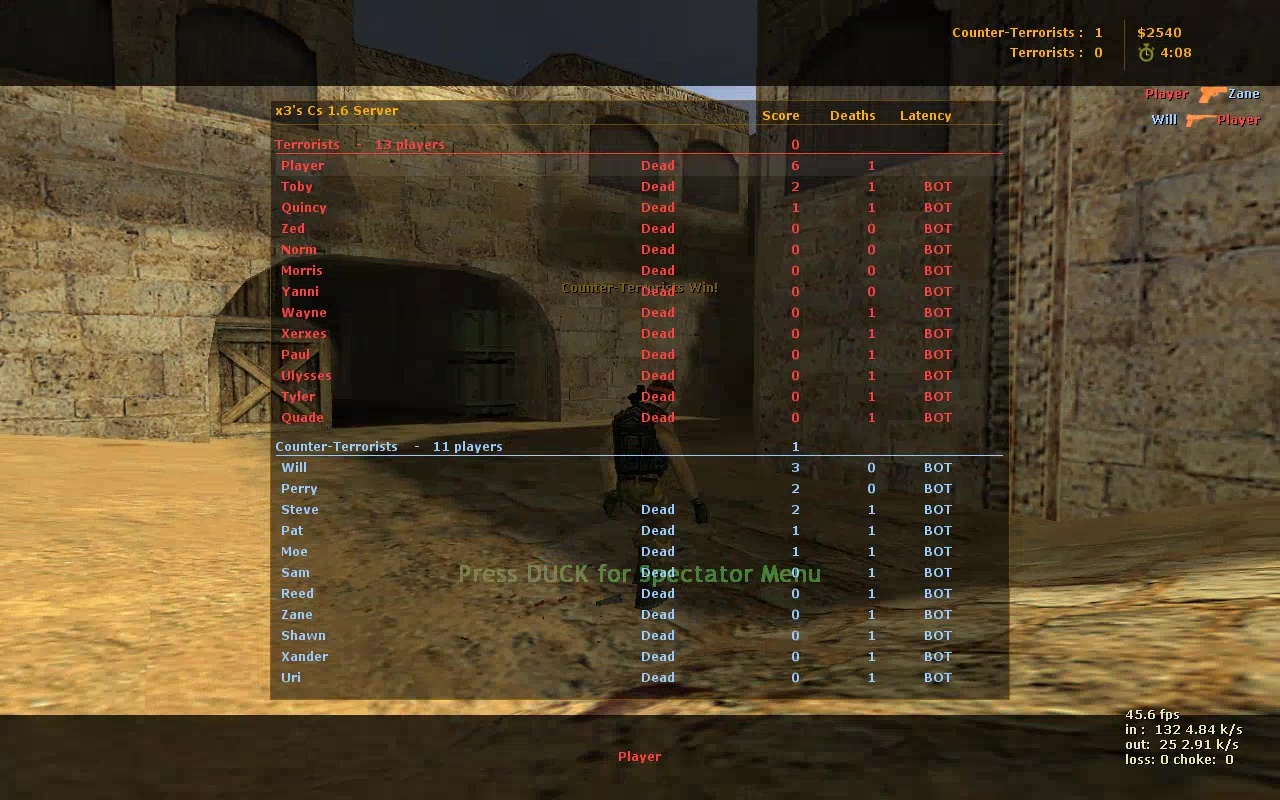terr1: (602, 379, 708, 611)
